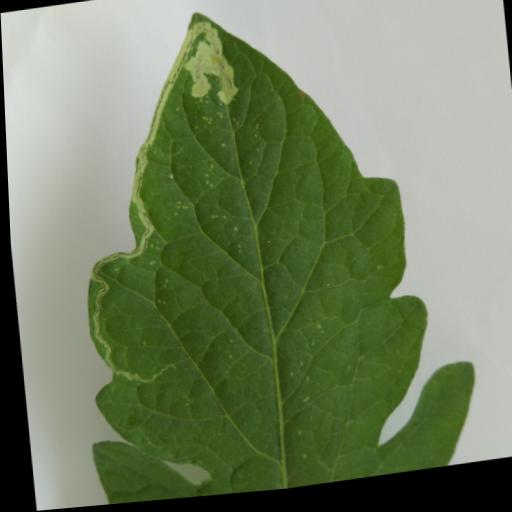Leaf_Miner: (56, 0, 350, 395)
